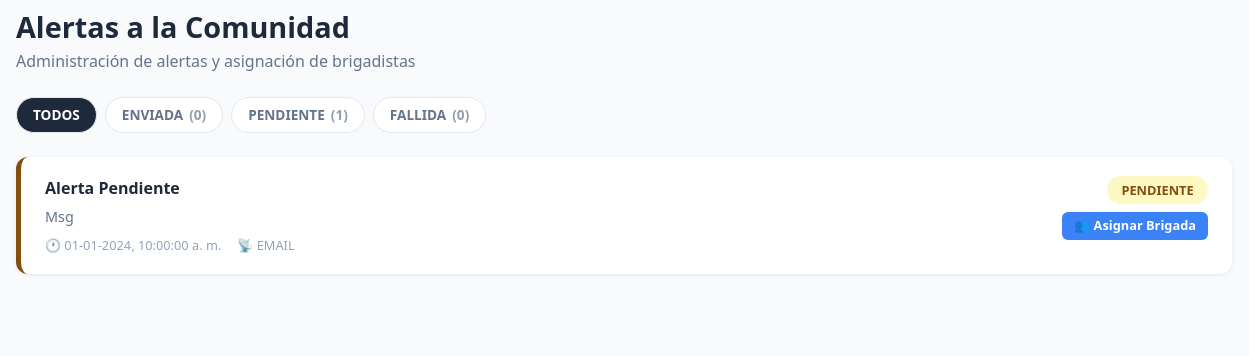
Test: Alertas — asignación de brigadistas (ADMINISTRADOR) › muestra mensaje de error si la asignación falla
This screenshot has width=1249, height=356.
Click the button "👥 Asignar Brigada" at (1135, 226), box [1062,212,1208,240]
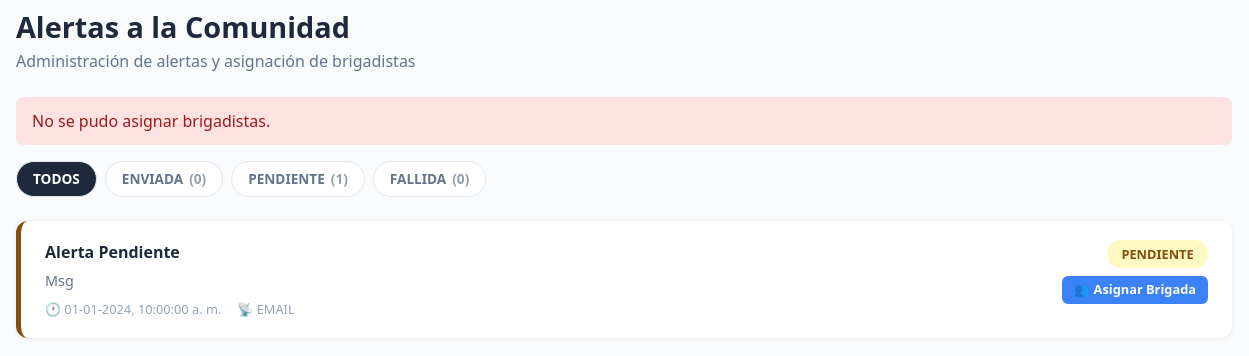
Now the text "No se pudo asignar brigadistas." is shown, box [16,97,1232,145]
